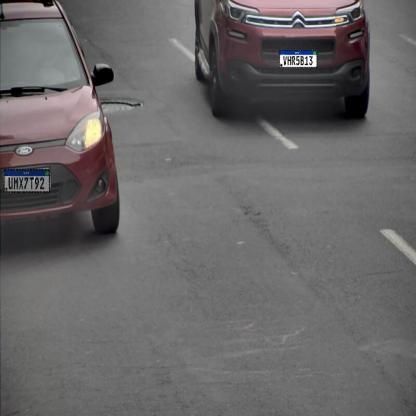PlacaM: (4, 169, 50, 193), (279, 50, 317, 68)
